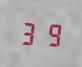nine: (40, 19, 60, 47)
three: (19, 18, 39, 46)
